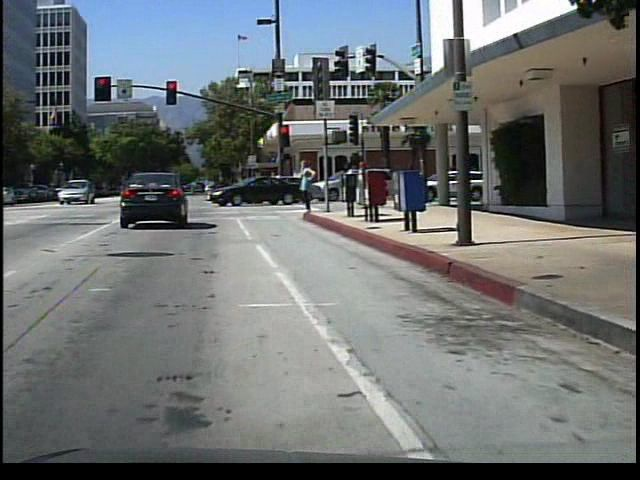person: (297, 152, 323, 216), (359, 154, 377, 209), (345, 156, 364, 208)
